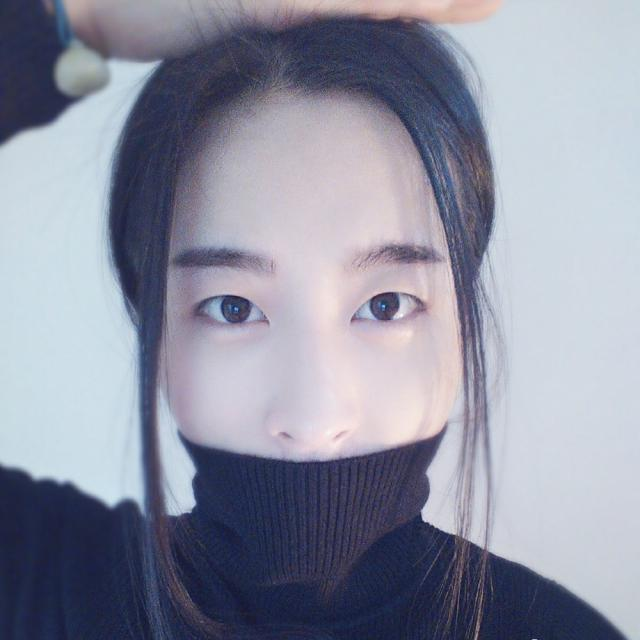mask: (148, 102, 460, 582)
